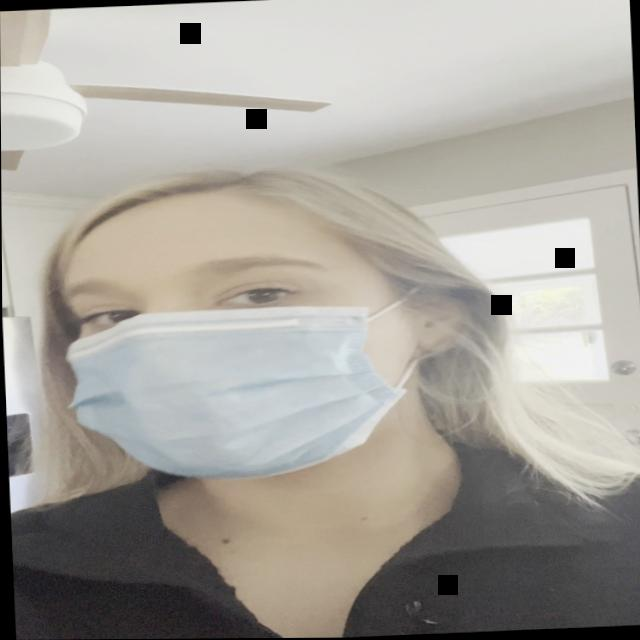Mask: (12, 174, 532, 501)
